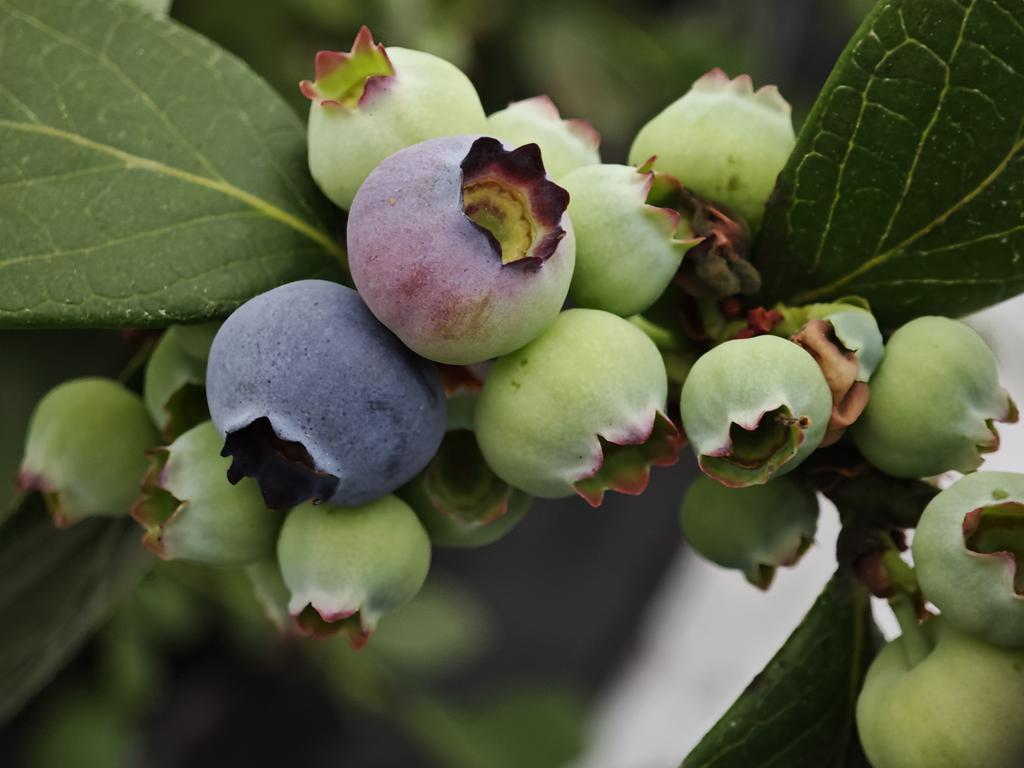RipeBlueBerry: (206, 280, 448, 502)
Semi-RipeBlueBerry: (349, 133, 572, 356)
UnripeBlueBerry: (483, 317, 667, 489), (681, 333, 829, 482), (632, 69, 790, 204)
